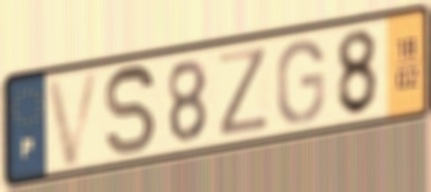8: (334, 26, 380, 118), (165, 56, 211, 146)
G: (274, 36, 327, 128)
S: (102, 62, 159, 158)
V: (43, 66, 105, 172)
Z: (216, 44, 273, 141)
